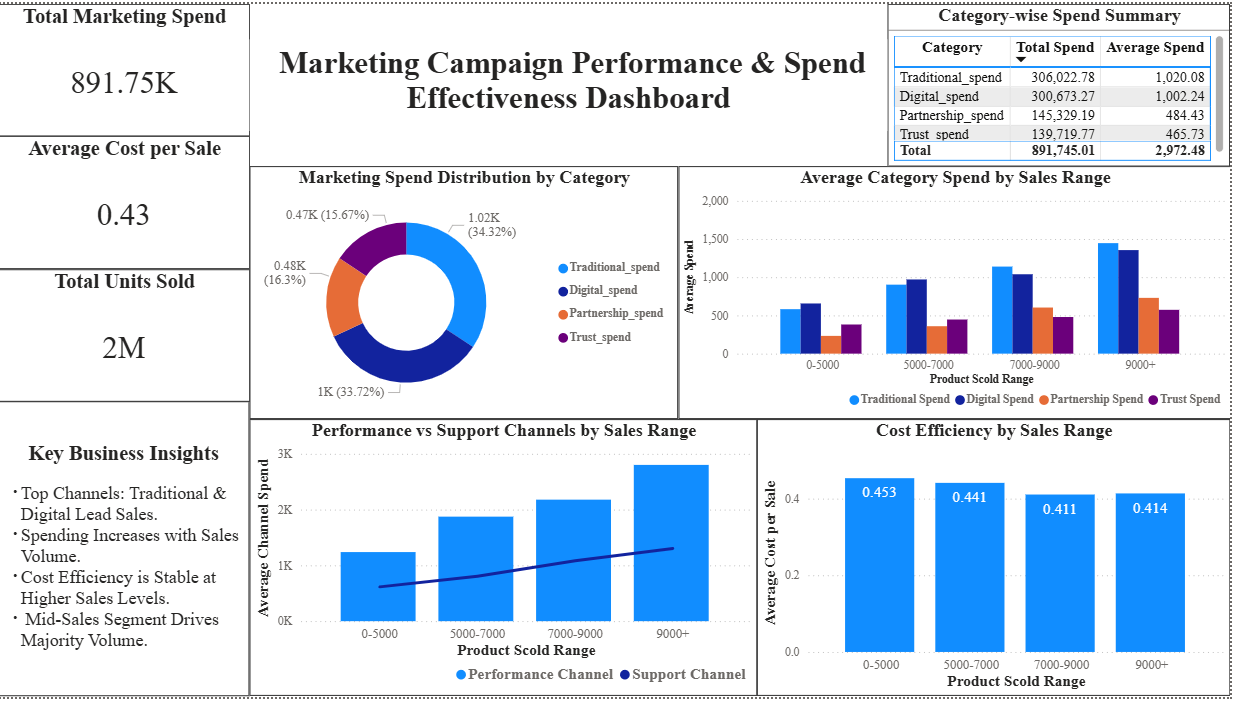

This screenshot's page, from the dashboard's own definition file:
{"tool":"powerbi","page":{"name":"Page 1","canvas":[1280,720],"ordinal":0},"visuals":[{"type":"donutChart","title":"Marketing Spend Distribution by Category","fields":{"Category":["category_pefromance.Category"],"Y":["Sum(category_pefromance.Average_spend)"],"Series":["category_pefromance.Total_spend"]},"box":[261.5,169.2,444.9,262.7],"z":0},{"type":"lineStackedColumnComboChart","title":"Performance vs Support Channels by Sales Range","fields":{"Category":["cleaned_data.Product_Sold_Range"],"Y":["Avg(cleaned_data.performance channel)"],"Y2":["Avg(cleaned_data.support_channels)"]},"box":[261.4,431.4,527.1,287.1],"z":1000},{"type":"columnChart","title":"Cost Efficiency by Sales Range","fields":{"Category":["cleaned_data.Product_Sold_Range"],"Y":["Avg(cleaned_data.Cost_per_sale)"]},"box":[788.6,431.4,491.4,287.1],"z":2000},{"type":"clusteredColumnChart","title":"Average Category Spend by Sales Range","fields":{"Category":["cleaned_data.Product_Sold_Range"],"Y":["Avg(cleaned_data.traditional_spend)","Avg(cleaned_data.digital_spend)","Avg(cleaned_data.partnership_spend)","Avg(cleaned_data.trust_spend)"]},"box":[706.4,169.2,573.9,262.7],"z":3000},{"type":"card","title":"Total Marketing Spend","fields":{"Values":["Sum(cleaned_data.total_spend)"]},"box":[0,0,261.5,137.3],"z":4000},{"type":"card","title":"Average Cost per Sale","fields":{"Values":["Avg(cleaned_data.Cost_per_sale)"]},"box":[0,137.3,261.5,138.4],"z":5000},{"type":"tableEx","title":"Category-wise Spend Summary","fields":{"Values":["category_pefromance.Category","Sum(category_pefromance.Total_spend)","Sum(category_pefromance.Average_spend)"]},"box":[924.3,0,355.7,168.6],"z":6000},{"type":"textbox","box":[0,413.3,261.3,306],"z":7000},{"type":"card","title":"Total Units Sold","fields":{"Values":["Sum(cleaned_data.Product_Sold)"]},"box":[0,275.7,261.5,137.3],"z":8000},{"type":"textbox","box":[261.4,37.1,662.9,94.3],"z":8001}]}

Visuals, with their boxes in screenshot pixels (x1, y1, x2, y2), scaled from the page's 1280x720 canvas onto the 1236x707 screenshot:
"Marketing Spend Distribution by Category" donutChart: 253:166:682:424
"Performance vs Support Channels by Sales Range" lineStackedColumnComboChart: 252:424:761:706
"Cost Efficiency by Sales Range" columnChart: 761:424:1235:706
"Average Category Spend by Sales Range" clusteredColumnChart: 682:166:1235:424
"Total Marketing Spend" card: 0:0:253:135
"Average Cost per Sale" card: 0:135:253:271
"Category-wise Spend Summary" tableEx: 893:0:1235:166
textbox: 0:406:252:706
"Total Units Sold" card: 0:271:253:406
textbox: 252:36:893:129
